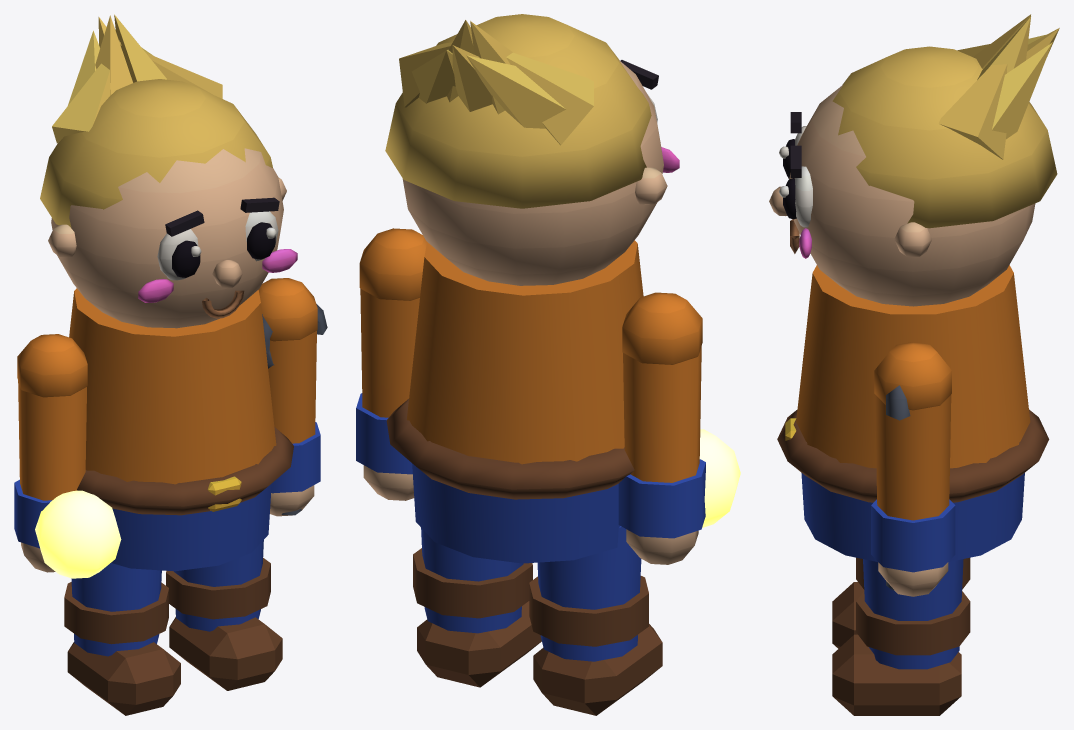
The model's file is hero_pip.glb.
3 renders of one model, left to right at view 1: azimuth 30°, elevation 25°; view 2: azimuth 150°, elevation 25°; view 3: azimuth 270°, elevation 25°, orthographic. The views are drawn at different scales.
Parts seen in each view (by area): view 1: body_t0_palette, legl_t0_palette, arml_t0_palette, legr_t0_palette, armr_t0_palette, arml_t0_glow_gold; view 2: body_t0_palette, arml_t0_palette, legl_t0_palette, legr_t0_palette, armr_t0_palette, arml_t0_glow_gold; view 3: body_t0_palette, armr_t0_palette, legr_t0_palette, legl_t0_palette.
Part boxes in pixels (<box>): body_t0_palette: <box>40,14,297,571</box>; legl_t0_palette: <box>64,563,180,715</box>; arml_t0_palette: <box>14,334,87,572</box>; legr_t0_palette: <box>166,540,282,690</box>; armr_t0_palette: <box>258,278,327,516</box>; arml_t0_glow_gold: <box>35,490,121,578</box>; body_t0_palette: <box>385,14,679,563</box>; arml_t0_palette: <box>618,292,705,564</box>; legl_t0_palette: <box>529,526,662,715</box>; legr_t0_palette: <box>413,528,541,687</box>; armr_t0_palette: <box>356,228,426,500</box>; arml_t0_glow_gold: <box>699,429,740,527</box>; body_t0_palette: <box>769,14,1059,561</box>; armr_t0_palette: <box>871,342,955,596</box>; legr_t0_palette: <box>832,559,970,715</box>; legl_t0_palette: <box>832,557,970,648</box>.
Bounding box in the file's own units: 0.278 × 0.5391 × 0.2139.
